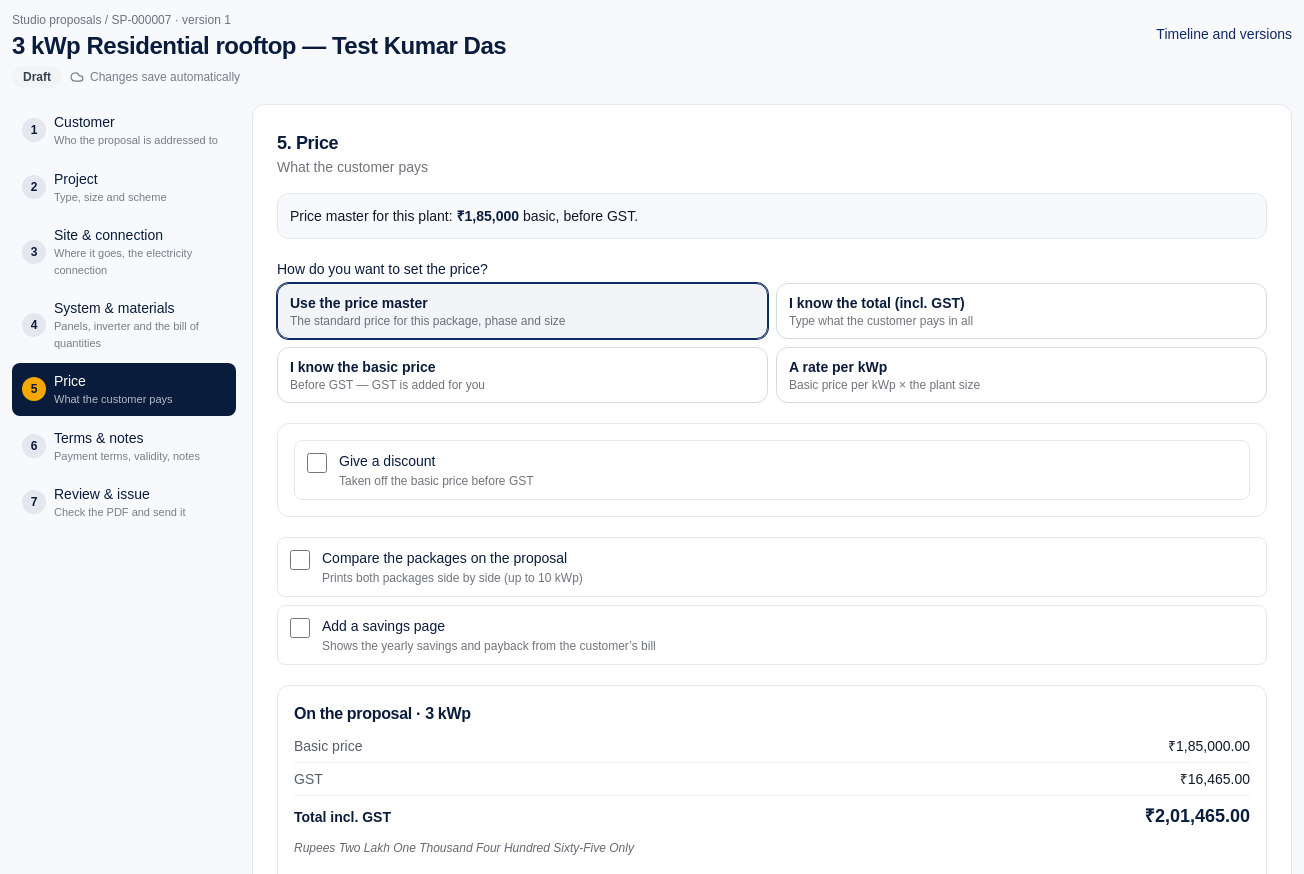
Test: price step › below the price master: the server’s reason_required shows at the reason field
The width and height of the screenshot is (1304, 874).
Expected: the list with test id "wizard-steps" is shown, [12,104,236,532]
Click the radio button with test id "price-way-basic" at point(363, 367), box [277,347,768,403]
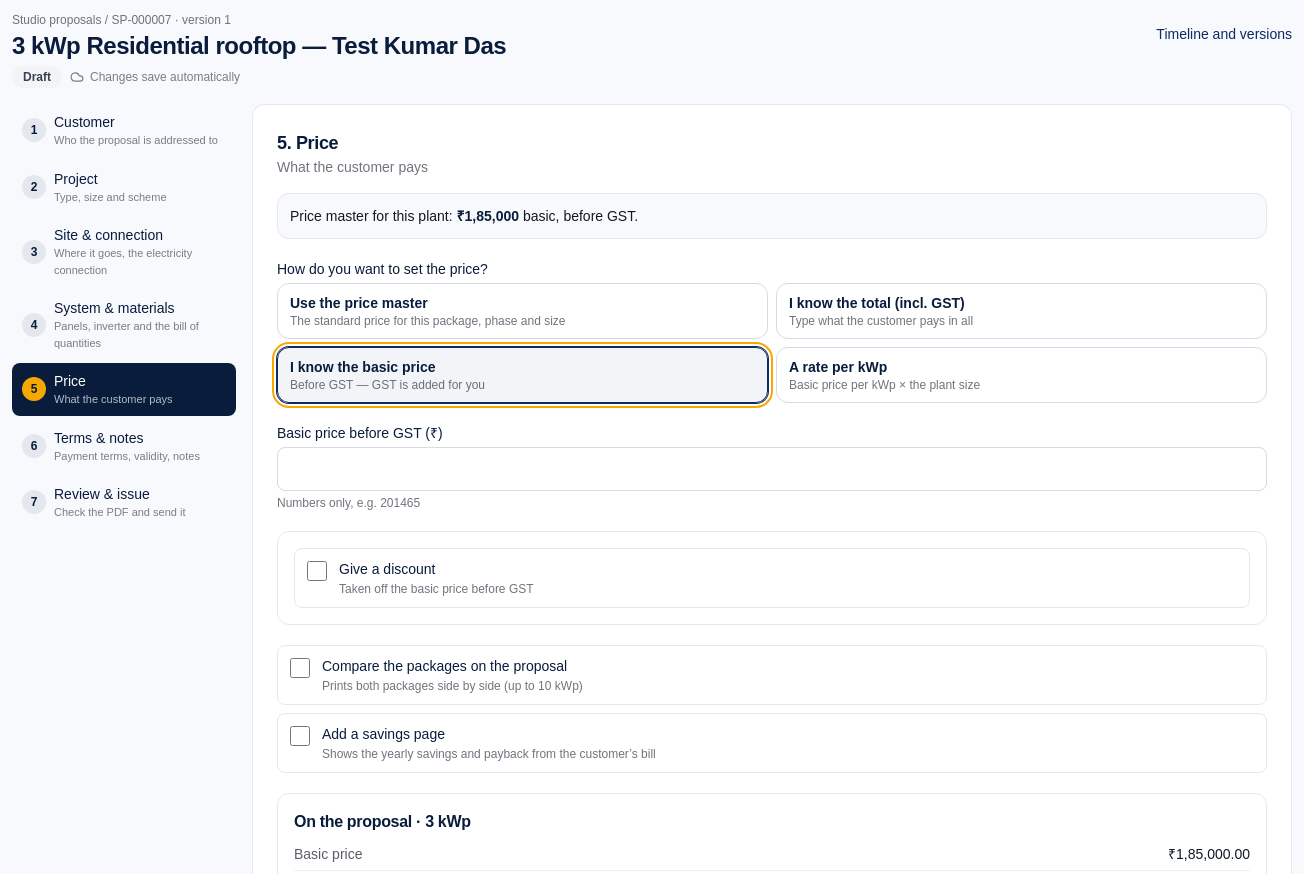
Type "170000" into the field labelled "Basic price before GST (₹)" at point(772, 469), box [277,447,1267,491]
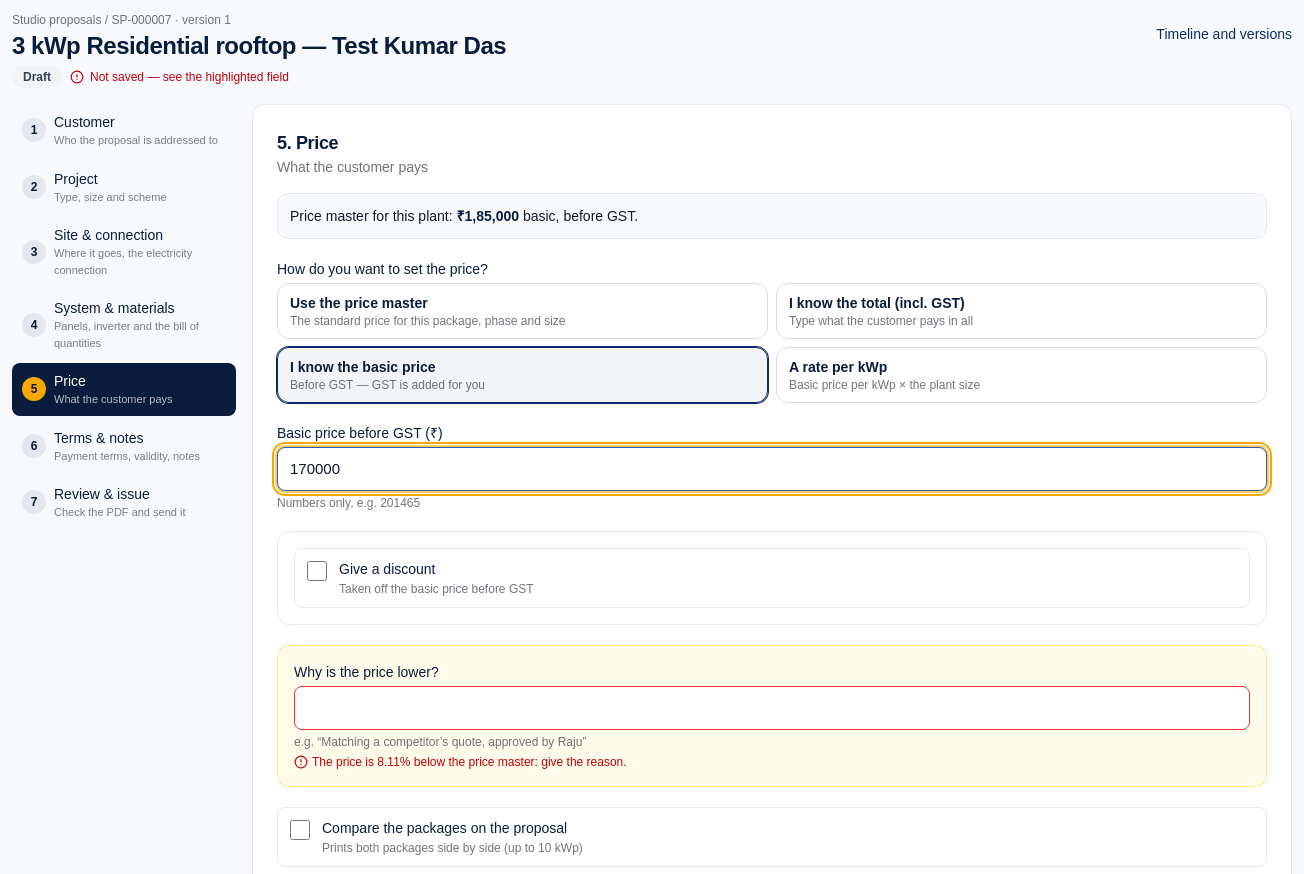
Expected: the text "The price is 8.11% below the price master: give the reason." is shown, [294,755,627,769]
